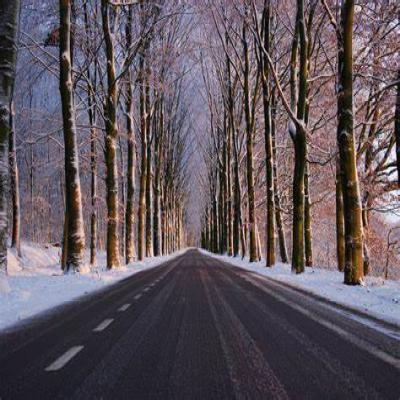iced-road: (0, 249, 400, 400)
